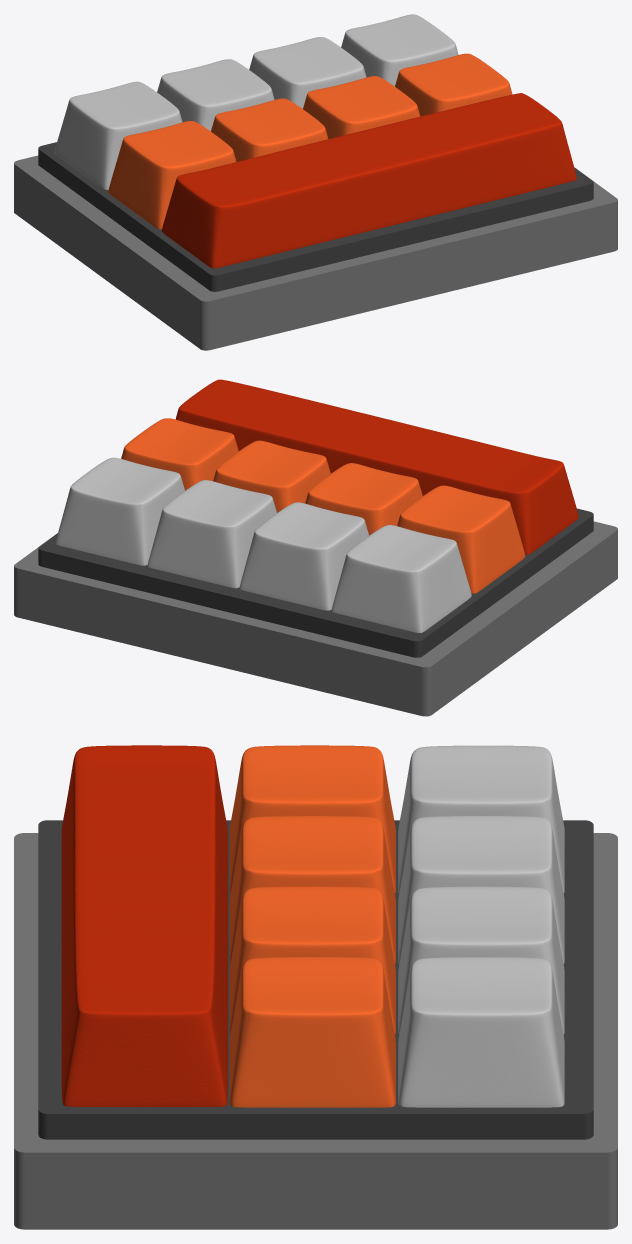
The picture shows the model from 3 angles, top to bottom: view 1: azimuth 30°, elevation 25°; view 2: azimuth 150°, elevation 25°; view 3: azimuth 270°, elevation 25°; orthographic projection. The views are drawn at different scales.
Parts seen in each view (by area): view 1: Everything_key, Cube.001, Cube, F_Key, Off_Key, U_Key, K_Key, C_key, You_Key, Me_Key, This_key; view 2: Cube.001, Everything_key, Cube, F_Key, U_Key, K_Key, C_key, Off_Key, This_key, Me_Key, You_Key; view 3: Cube.001, Everything_key, Cube, This_key, K_Key, C_key, U_Key, Off_Key, Me_Key, You_Key, F_Key.
Boxes of the visible parts, x1=… form: Everything_key: x1=161, y1=93, x2=576, y2=268; Cube.001: x1=14, y1=155, x2=617, y2=350; Cube: x1=38, y1=142, x2=593, y2=291; F_Key: x1=54, y1=81, x2=182, y2=189; Off_Key: x1=108, y1=121, x2=236, y2=229; U_Key: x1=157, y1=59, x2=274, y2=131; K_Key: x1=341, y1=14, x2=458, y2=86; C_key: x1=249, y1=37, x2=366, y2=108; You_Key: x1=211, y1=98, x2=328, y2=161; Me_Key: x1=303, y1=76, x2=420, y2=138; This_key: x1=395, y1=53, x2=512, y2=116; Cube.001: x1=14, y1=521, x2=617, y2=716; Everything_key: x1=175, y1=379, x2=578, y2=554; Cube: x1=38, y1=508, x2=593, y2=657; F_Key: x1=331, y1=525, x2=471, y2=632; U_Key: x1=239, y1=502, x2=368, y2=610; K_Key: x1=55, y1=457, x2=184, y2=565; C_key: x1=147, y1=480, x2=276, y2=588; Off_Key: x1=397, y1=485, x2=525, y2=593; This_key: x1=121, y1=418, x2=238, y2=490; Me_Key: x1=213, y1=440, x2=330, y2=512; You_Key: x1=305, y1=463, x2=422, y2=535; Cube.001: x1=14, y1=833, x2=617, y2=1229; Everything_key: x1=61, y1=745, x2=227, y2=1106; Cube: x1=38, y1=820, x2=593, y2=1139; This_key: x1=229, y1=957, x2=395, y2=1107; K_Key: x1=398, y1=957, x2=564, y2=1107; C_key: x1=398, y1=886, x2=564, y2=1034; U_Key: x1=398, y1=816, x2=564, y2=963; Off_Key: x1=229, y1=745, x2=395, y2=893; Me_Key: x1=229, y1=886, x2=395, y2=1034; You_Key: x1=229, y1=816, x2=395, y2=963; F_Key: x1=398, y1=745, x2=564, y2=893.
Size of the model in its own units: 14.95 by 4.16 by 11.95.
